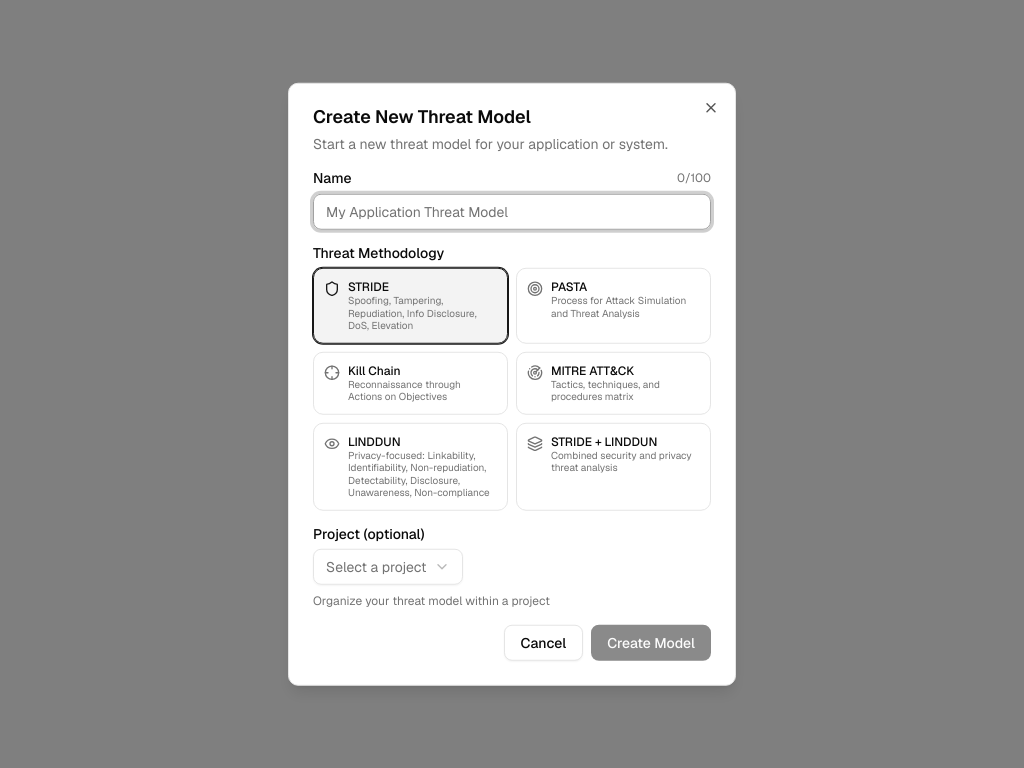
Test: CreateModelDialog › enables Create button with valid name
The image size is (1024, 768).
In the field with placeholder "My Application Threat Model": (512, 212) x1=313 y1=194 x2=711 y2=230, type "Payment API"
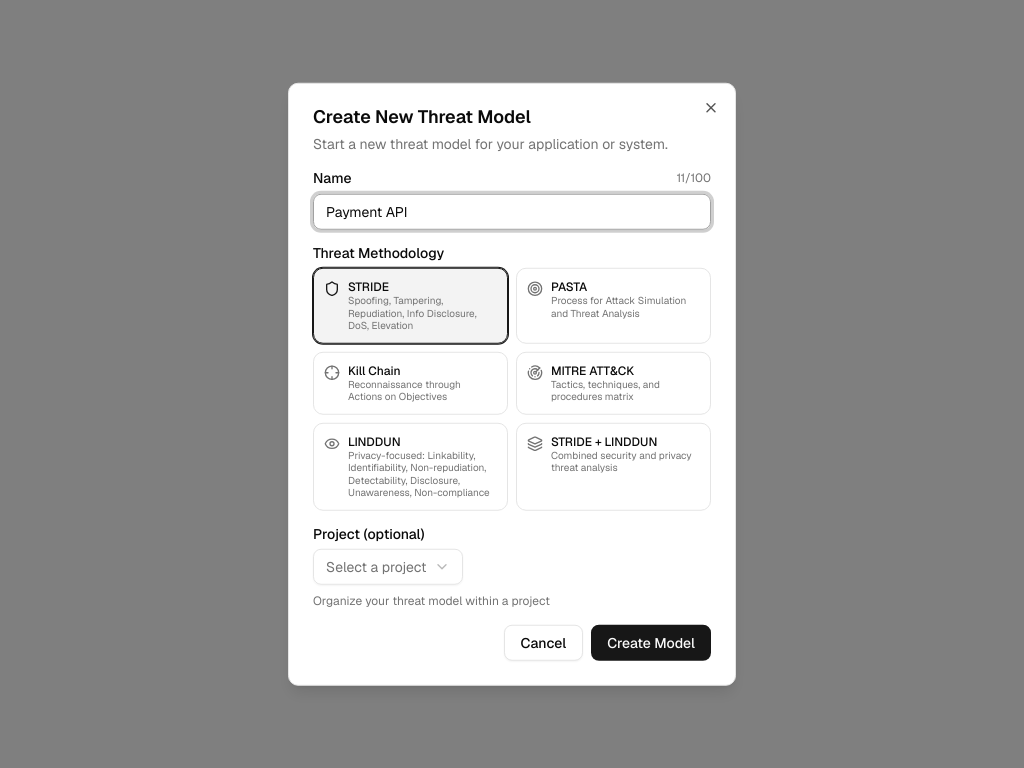
expect the button "Create Model" is enabled: met, box x1=591 y1=624 x2=711 y2=660
